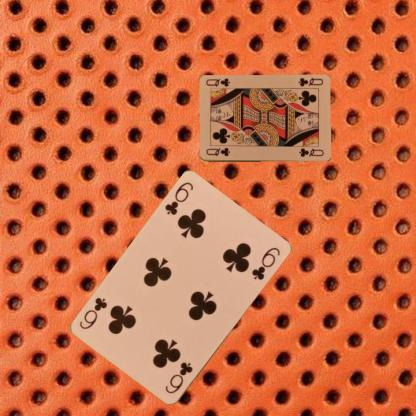6c: (162, 359, 194, 396), (162, 180, 194, 217)
Qc: (203, 146, 231, 158), (296, 76, 324, 88)
